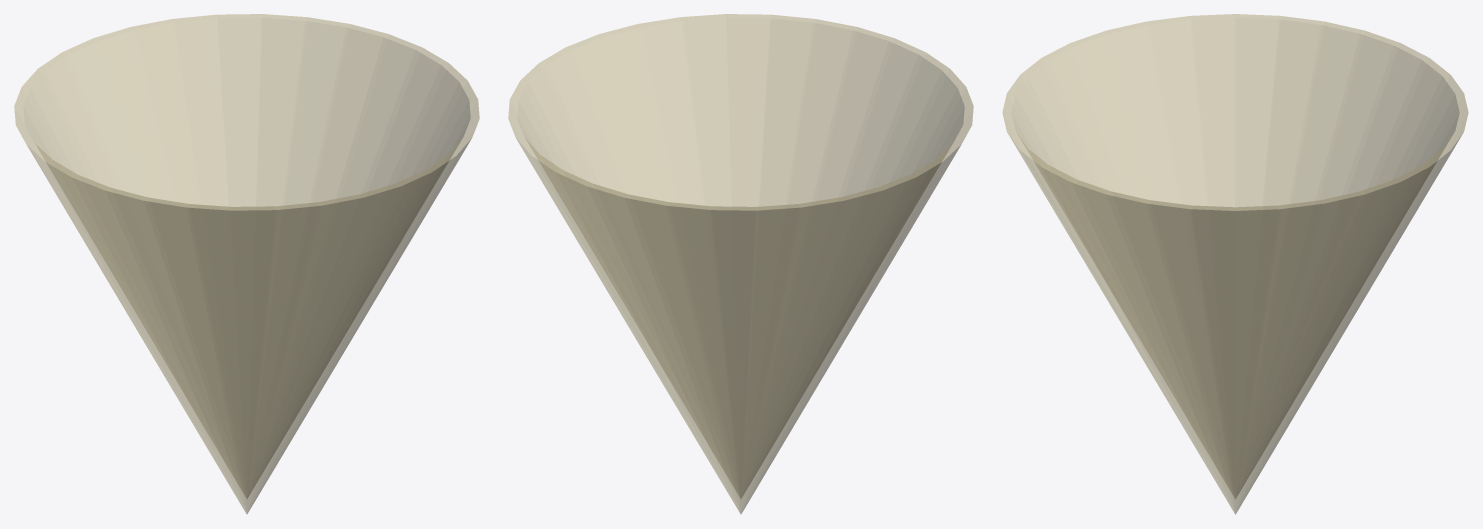
3 renders of one model, left to right at view 1: azimuth 30°, elevation 25°; view 2: azimuth 150°, elevation 25°; view 3: azimuth 270°, elevation 25°, orthographic.
Visible parts, largest first — view 1: Cone; view 2: Cone; view 3: Cone.
Boxes of the visible parts, x1=… form: Cone: x1=14, y1=14, x2=479, y2=513; Cone: x1=508, y1=14, x2=973, y2=513; Cone: x1=1002, y1=14, x2=1468, y2=514.
Bounding box in the file's own units: 0.4105 × 0.4105 × 0.391.
